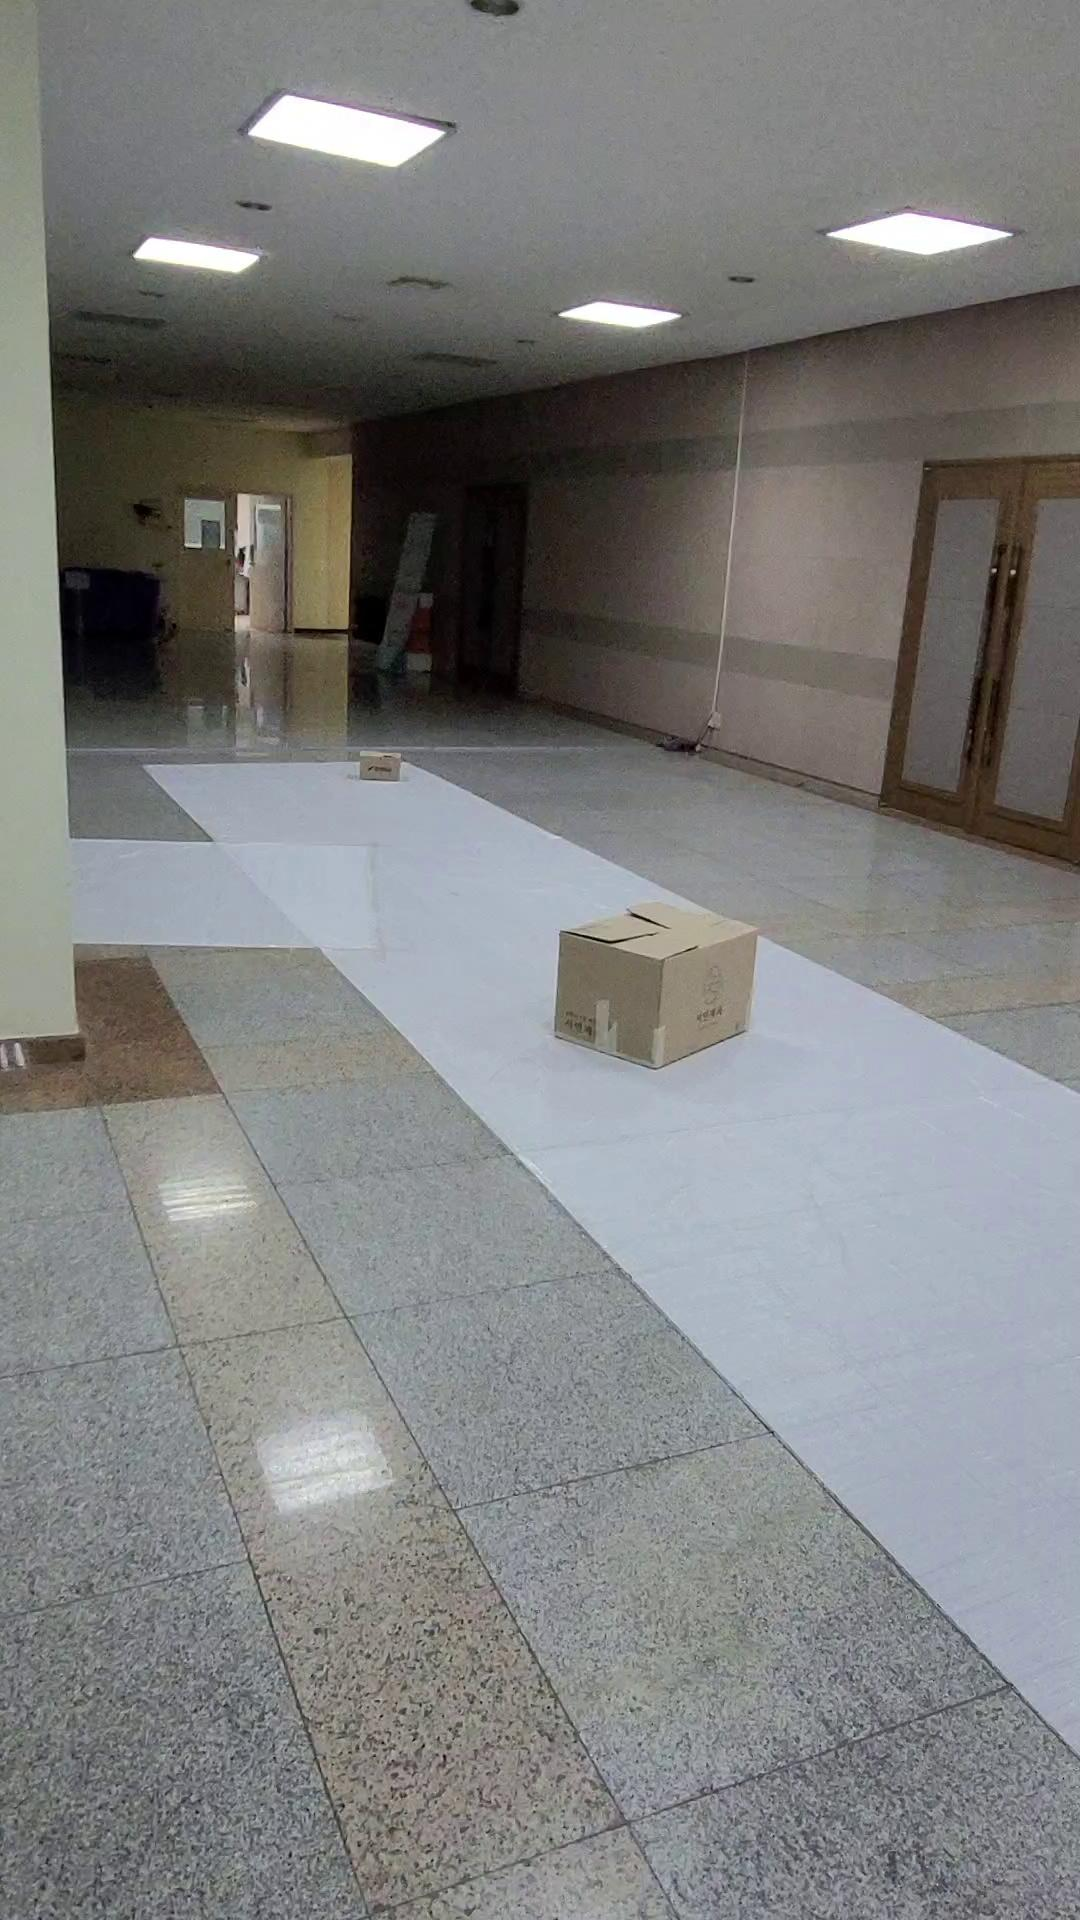Box: (546, 895, 777, 1083), (351, 745, 430, 796)
